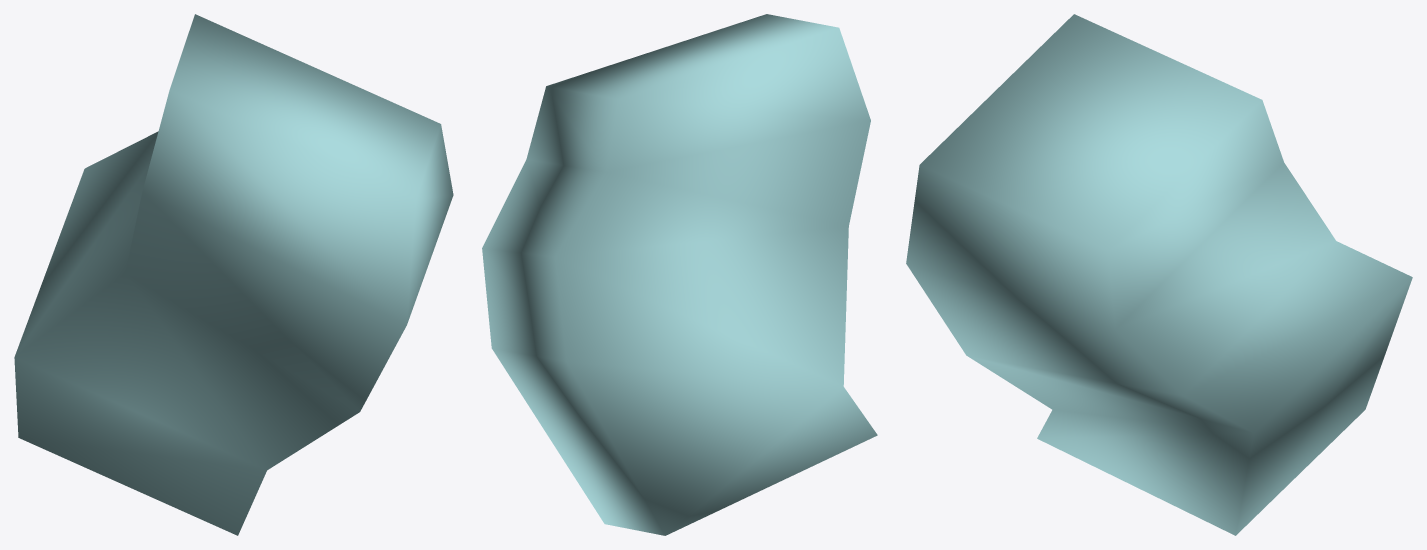
Rendered from skelly_foot_heel.R.fbx.
3 renders of one model, left to right at view 1: azimuth 30°, elevation 25°; view 2: azimuth 150°, elevation 25°; view 3: azimuth 270°, elevation 25°, orthographic. The views are drawn at different scales.
Visible parts, largest first — view 1: skelly_foot_heel.R; view 2: skelly_foot_heel.R; view 3: skelly_foot_heel.R.
Boxes of the visible parts, x1=… form: skelly_foot_heel.R: x1=14, y1=14, x2=453, y2=535; skelly_foot_heel.R: x1=482, y1=14, x2=877, y2=535; skelly_foot_heel.R: x1=906, y1=14, x2=1412, y2=535.
Bounding box in the file's own units: 8.16 × 9.4 × 9.56.
